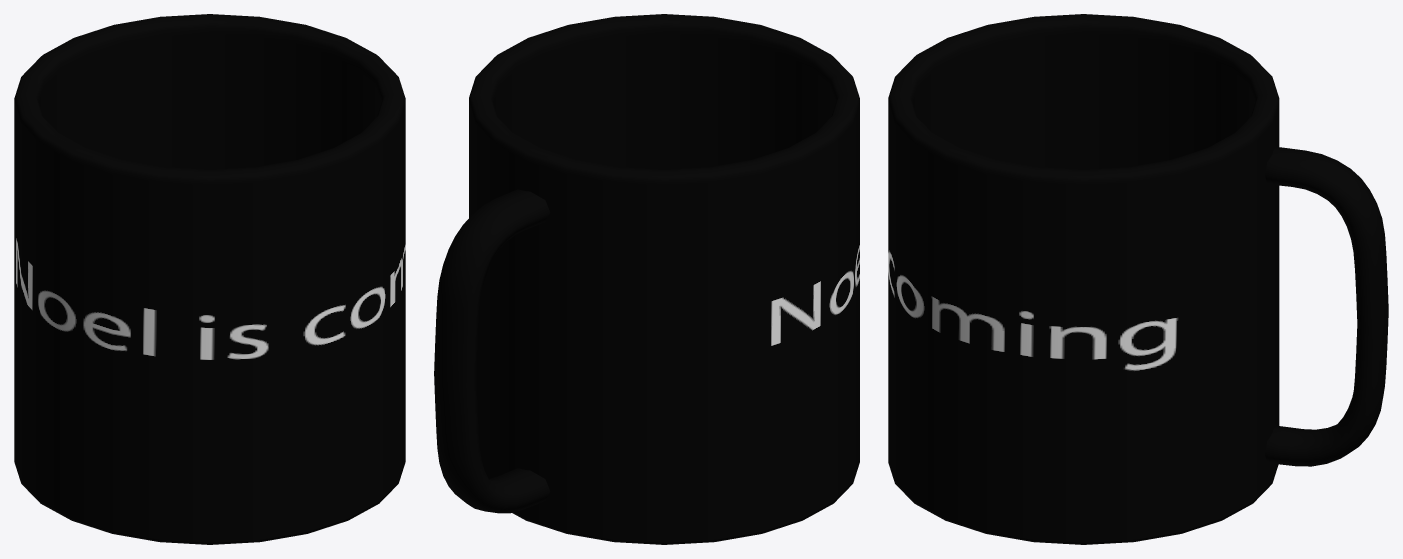
File: mug.fbx
3 renders of one model, left to right at view 1: azimuth 30°, elevation 25°; view 2: azimuth 150°, elevation 25°; view 3: azimuth 270°, elevation 25°, orthographic.
Parts seen in each view (by area): view 1: pCylinder3; view 2: pCylinder3; view 3: pCylinder3.
Part boxes in pixels (x1,y1,x2,y2): pCylinder3: (14, 14, 405, 544); pCylinder3: (434, 14, 859, 544); pCylinder3: (888, 14, 1388, 544).
Bounding box in the file's own units: 32.42 × 33.8 × 41.49.
